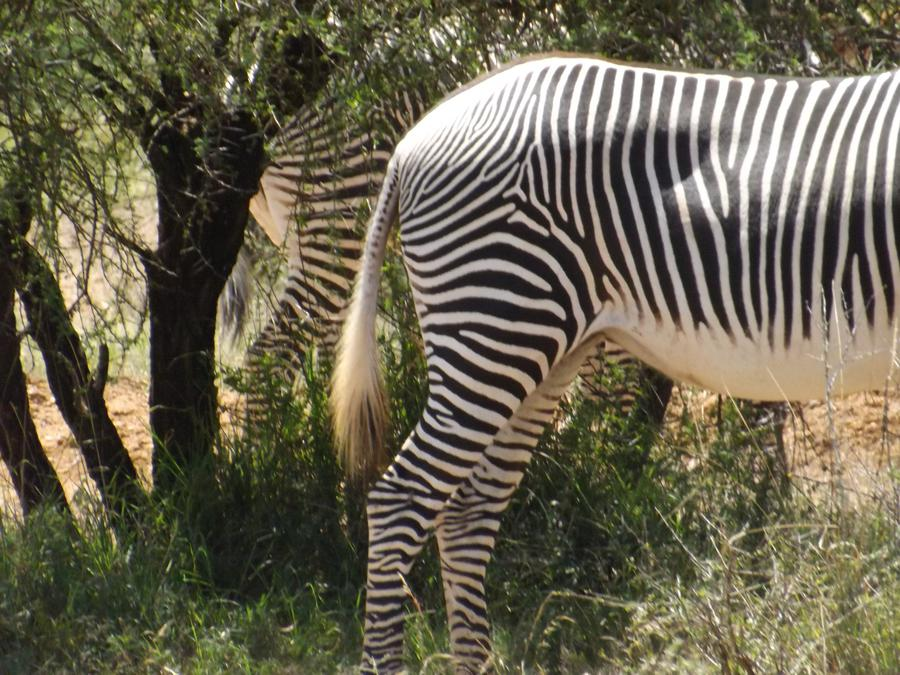zebra_grevys: (383, 31, 895, 370)
